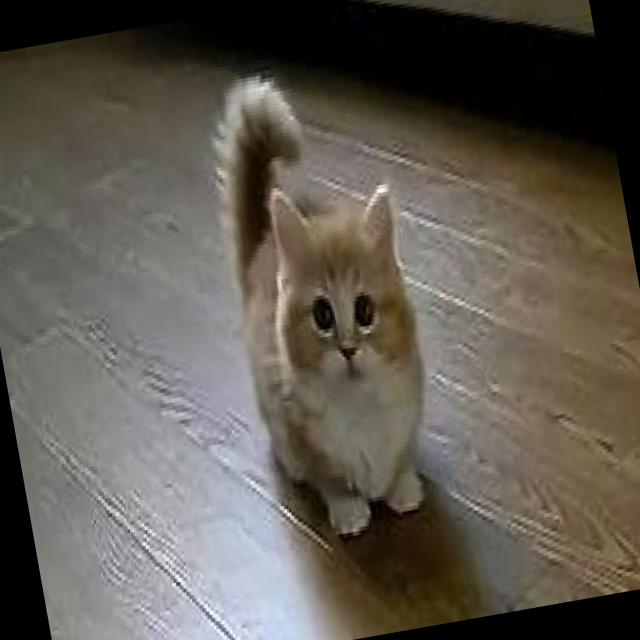animal: (165, 51, 487, 564)
